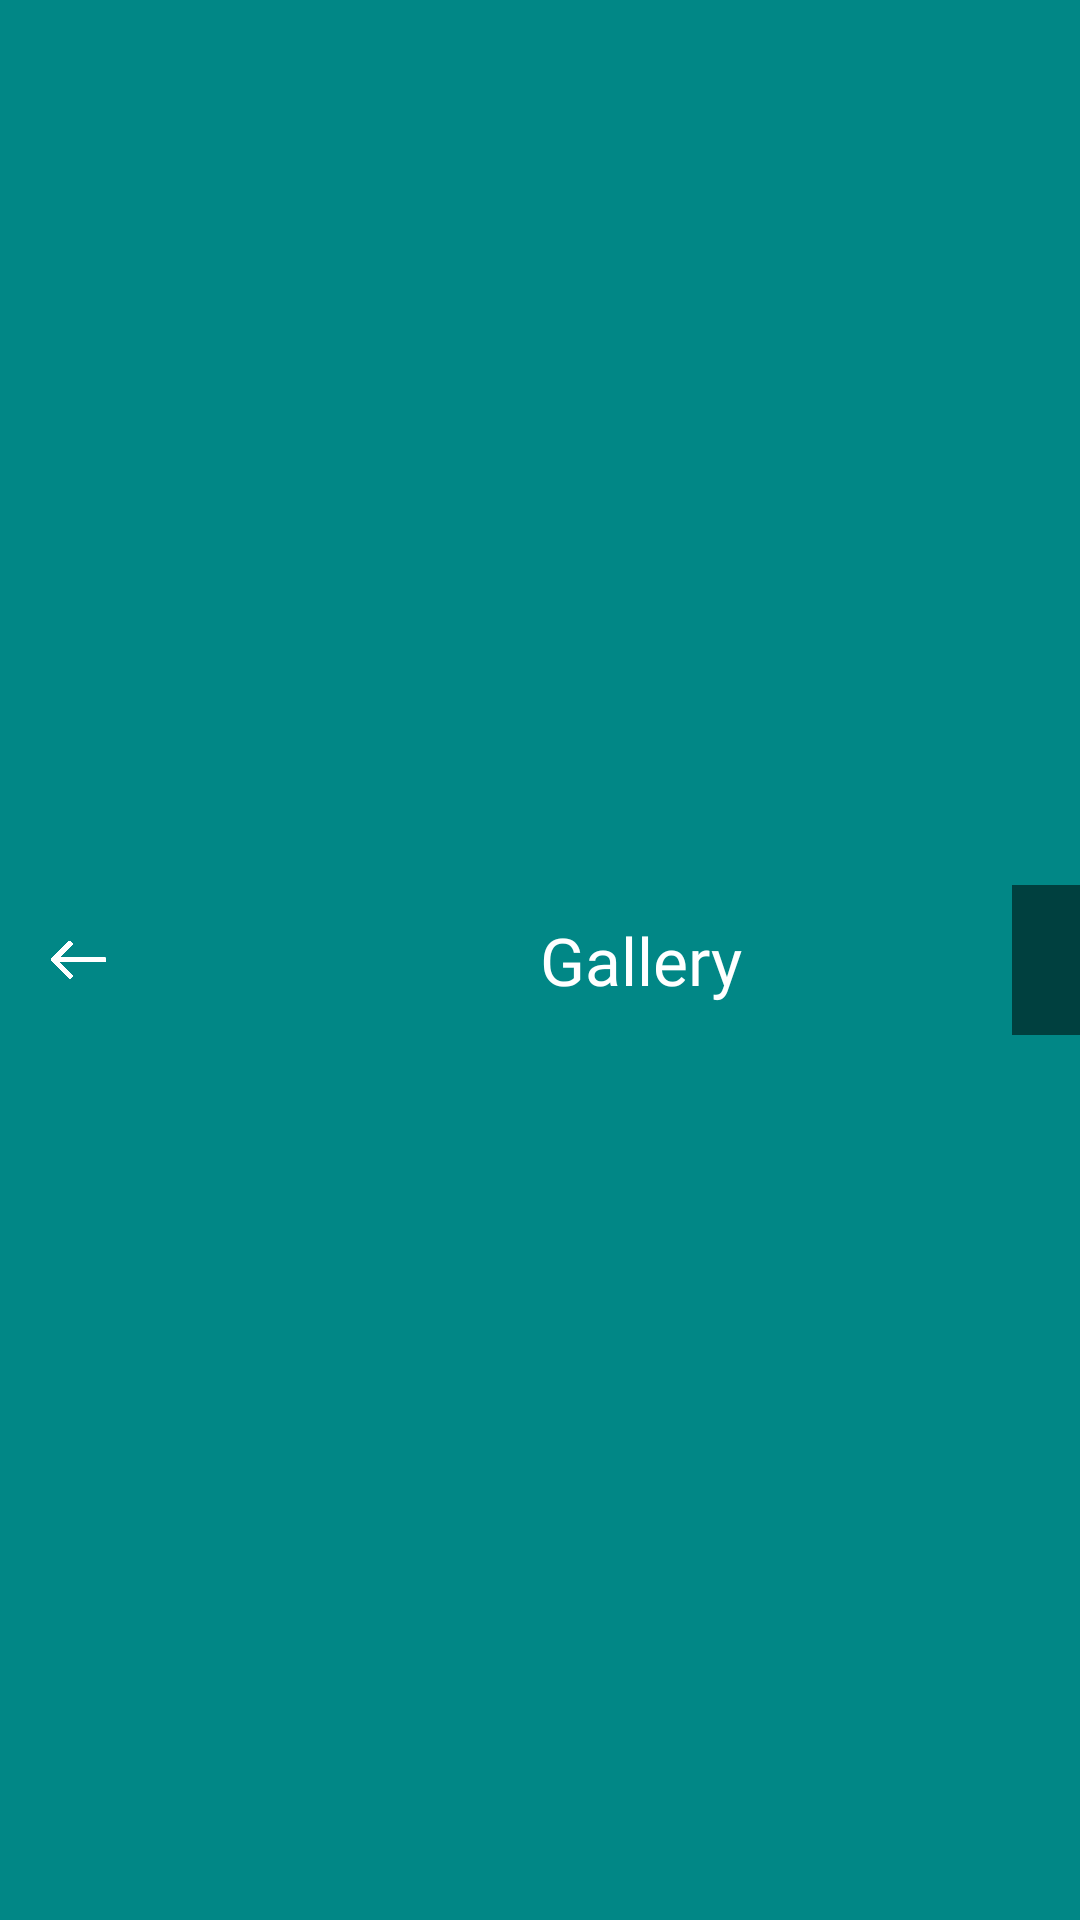

Icon click points for this 1080px x 1920px phone screenshot, format point (x, y):
back: point (78, 960)
